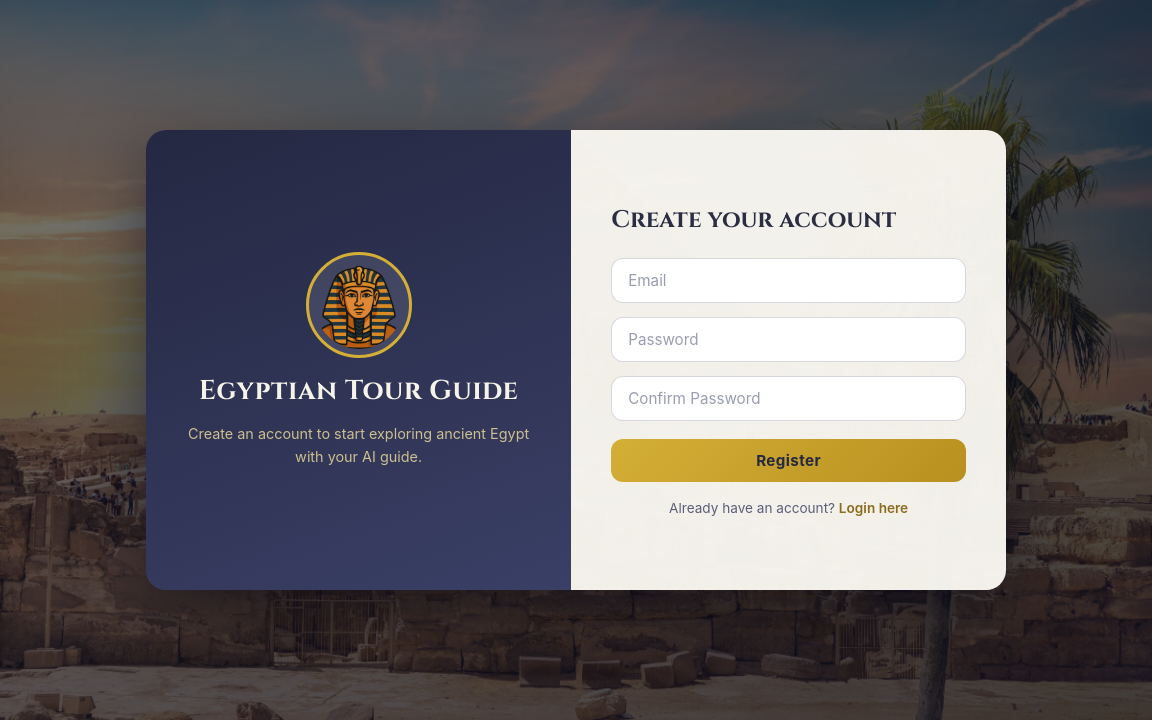
Scenario: Register › rejects a password shorter than 8 characters
In the field with placeholder "Email": (789, 280) [611,258,966,303], type "new@example.com"
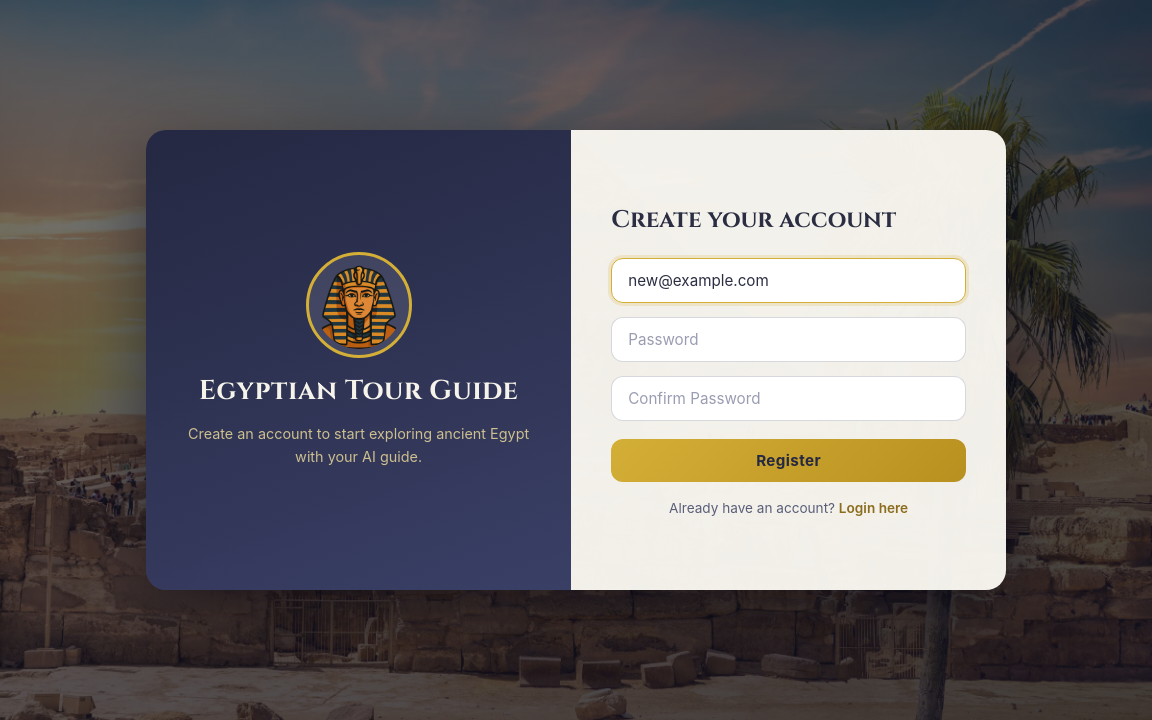
In the password field with placeholder "Password": (789, 340) [611,317,966,362], type "short"
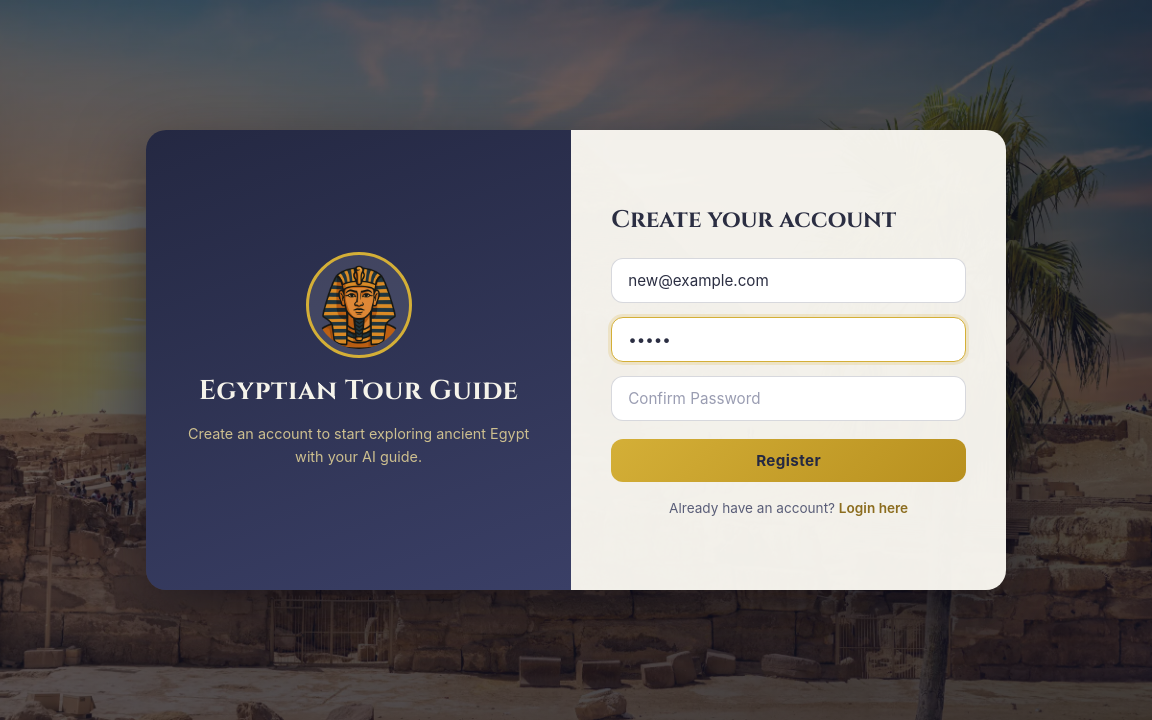
In the password field with placeholder "Confirm Password": (789, 398) [611,376,966,421], type "short"
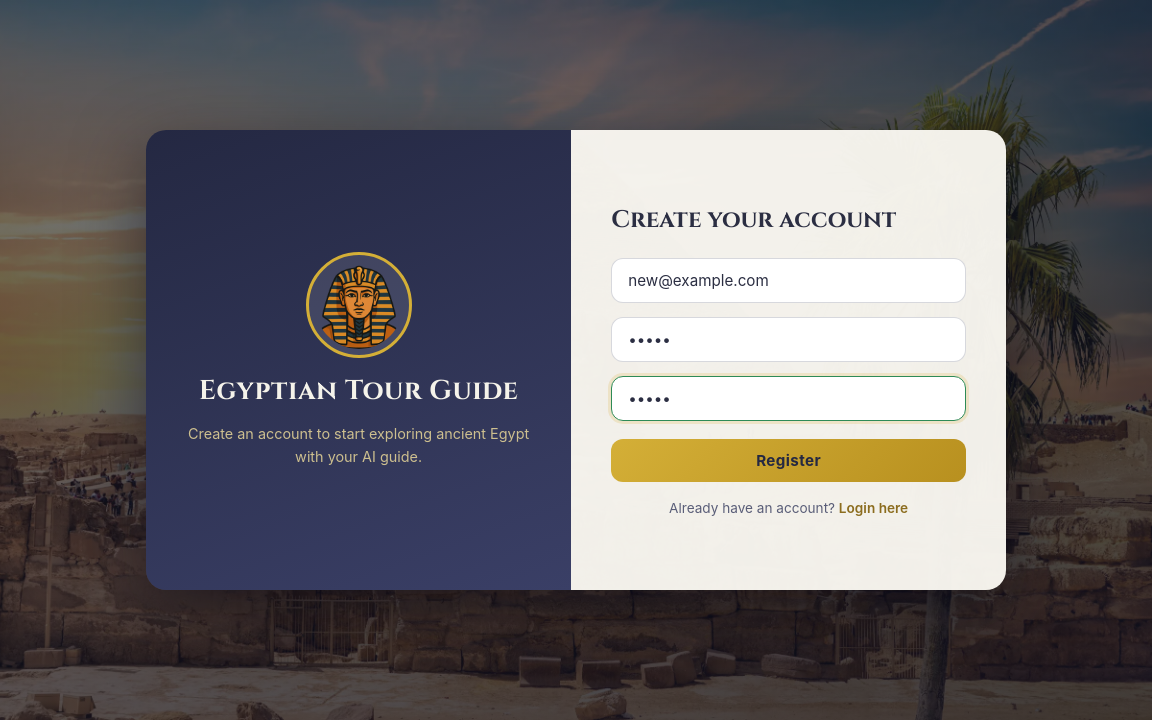
Submit the form with class "signupForm", box [571,130,1006,590]
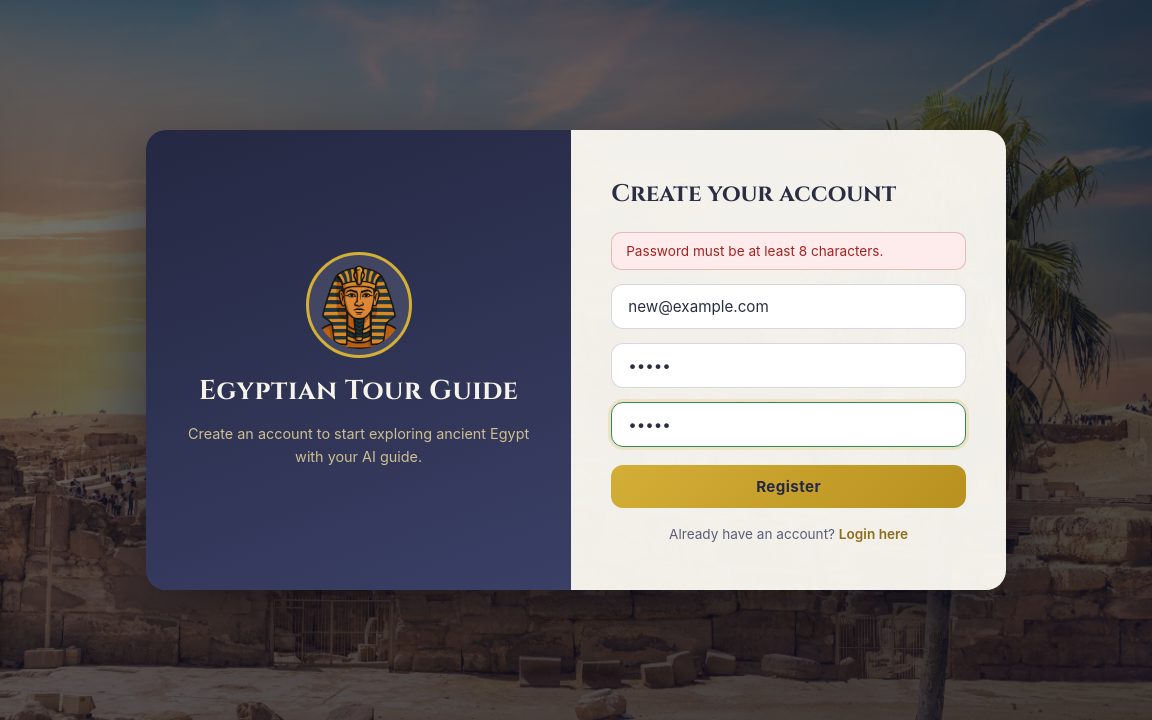
Now the message reads "Password must be at least 8 characters.", box [626,243,883,259]
